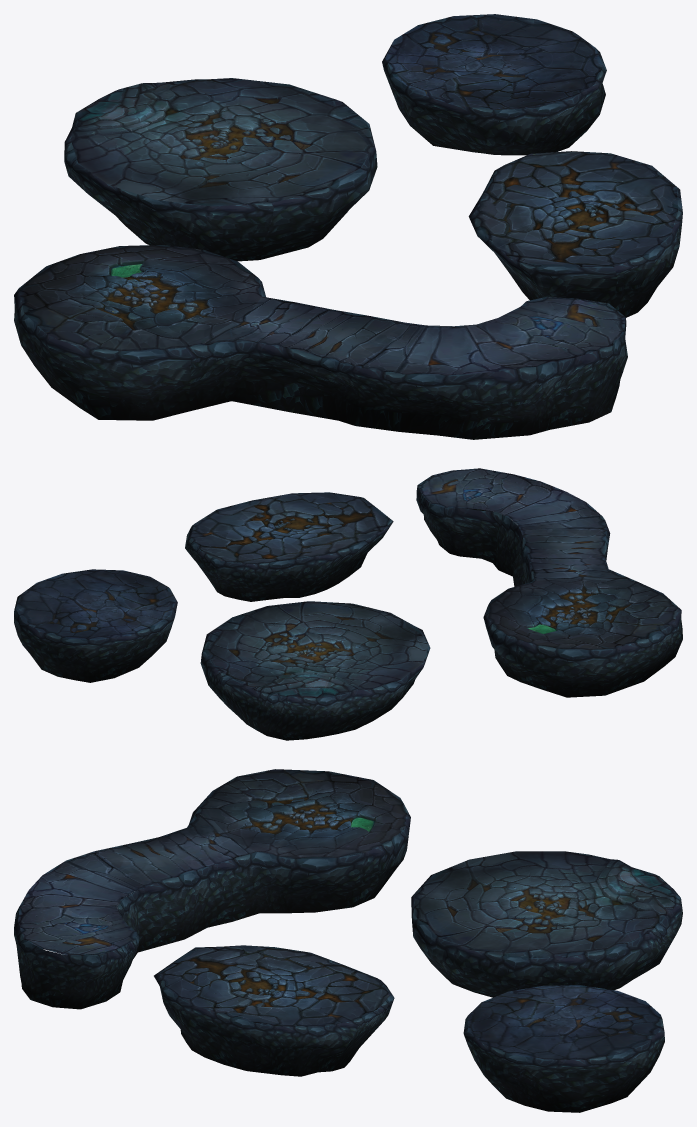
Rendered from H_Maze_dimian01.FBX.
3 views of the same model, one above another, from view 1: azimuth 30°, elevation 25°; view 2: azimuth 150°, elevation 25°; view 3: azimuth 270°, elevation 25° (orthographic). The views are drawn at different scales.
Visible parts, largest first — view 1: dizuo04, dizuo01, dizuo03, dizuo02; view 2: dizuo04, dizuo01, dizuo03, dizuo02; view 3: dizuo04, dizuo01, dizuo03, dizuo02.
Boxes of the visible parts, x1,y1,x2,y2 form: dizuo04: (14,245,627,439); dizuo01: (64,78,377,261); dizuo03: (468,151,682,317); dizuo02: (382,14,606,155); dizuo04: (416,468,682,697); dizuo01: (200,601,430,740); dizuo03: (185,492,393,601); dizuo02: (14,569,177,682); dizuo04: (14,769,410,1009); dizuo01: (411,851,682,997); dizuo03: (154,945,394,1076); dizuo02: (463,985,664,1112).
Bounding box in the file's own units: 2621 × 265 × 2519.
